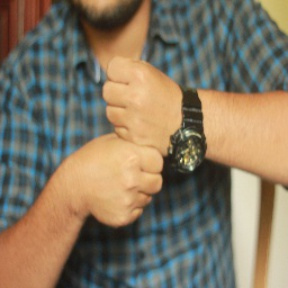G: (78, 52, 180, 232)
